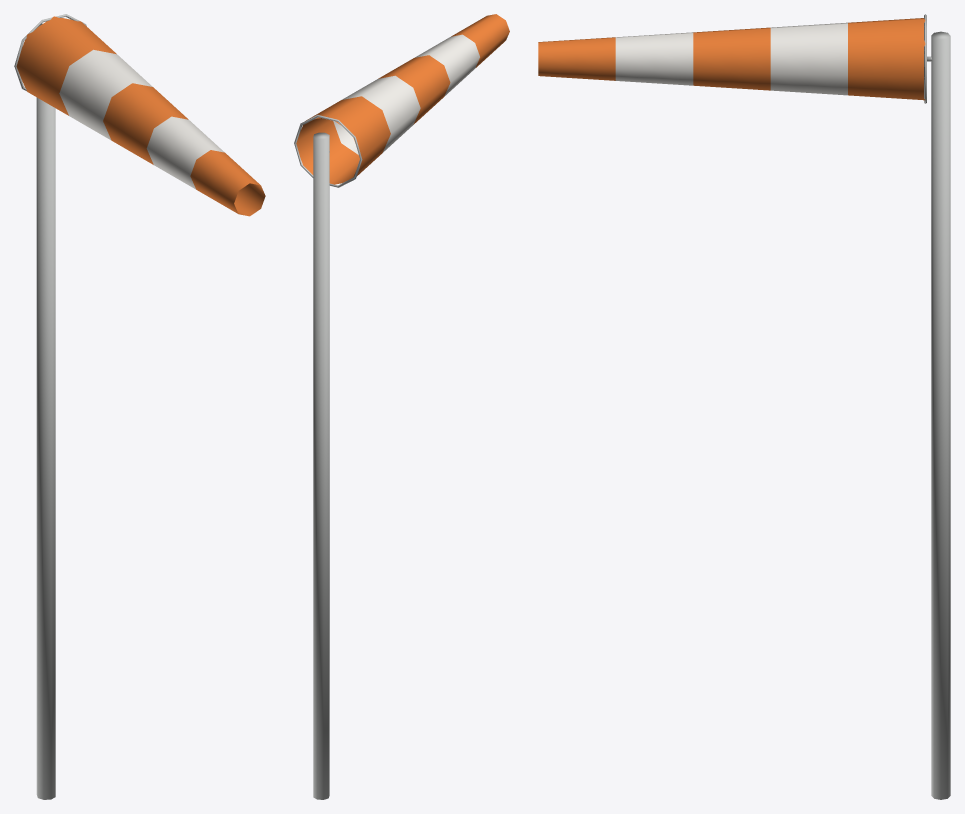
File: windsock_lod1.glb
3 renders of one model, left to right at view 1: azimuth 30°, elevation 25°; view 2: azimuth 150°, elevation 25°; view 3: azimuth 270°, elevation 25°, orthographic. The views are drawn at different scales.
Visible parts, largest first — view 1: pole_LOD1, sock_seg_0_LOD1, sock_seg_1_LOD1, sock_seg_2_LOD1, sock_seg_4_LOD1, sock_seg_3_LOD1; view 2: pole_LOD1, sock_seg_0_LOD1, sock_seg_1_LOD1, sock_seg_2_LOD1, sock_seg_3_LOD1, sock_seg_4_LOD1, sock_hoop_LOD1; view 3: pole_LOD1, sock_seg_0_LOD1, sock_seg_1_LOD1, sock_seg_2_LOD1, sock_seg_3_LOD1, sock_seg_4_LOD1.
Boxes of the visible parts, box(x1,y1,x2,y2) form: pole_LOD1: box(36, 23, 55, 799); sock_seg_0_LOD1: box(16, 16, 116, 115); sock_seg_1_LOD1: box(59, 49, 152, 140); sock_seg_2_LOD1: box(103, 83, 188, 164); sock_seg_4_LOD1: box(190, 150, 265, 216); sock_seg_3_LOD1: box(146, 116, 224, 189); pole_LOD1: box(313, 132, 329, 799); sock_seg_0_LOD1: box(296, 96, 390, 184); sock_seg_1_LOD1: box(333, 75, 420, 154); sock_seg_2_LOD1: box(378, 55, 450, 124); sock_seg_3_LOD1: box(415, 34, 479, 96); sock_seg_4_LOD1: box(451, 14, 509, 67); sock_hoop_LOD1: box(294, 114, 362, 187); pole_LOD1: box(931, 31, 950, 799); sock_seg_0_LOD1: box(848, 18, 925, 100); sock_seg_1_LOD1: box(770, 22, 847, 95); sock_seg_2_LOD1: box(693, 27, 770, 90); sock_seg_3_LOD1: box(615, 32, 693, 85); sock_seg_4_LOD1: box(538, 37, 615, 80).
Bounding box in the file's own units: 0.704 × 6.64 × 3.2.
